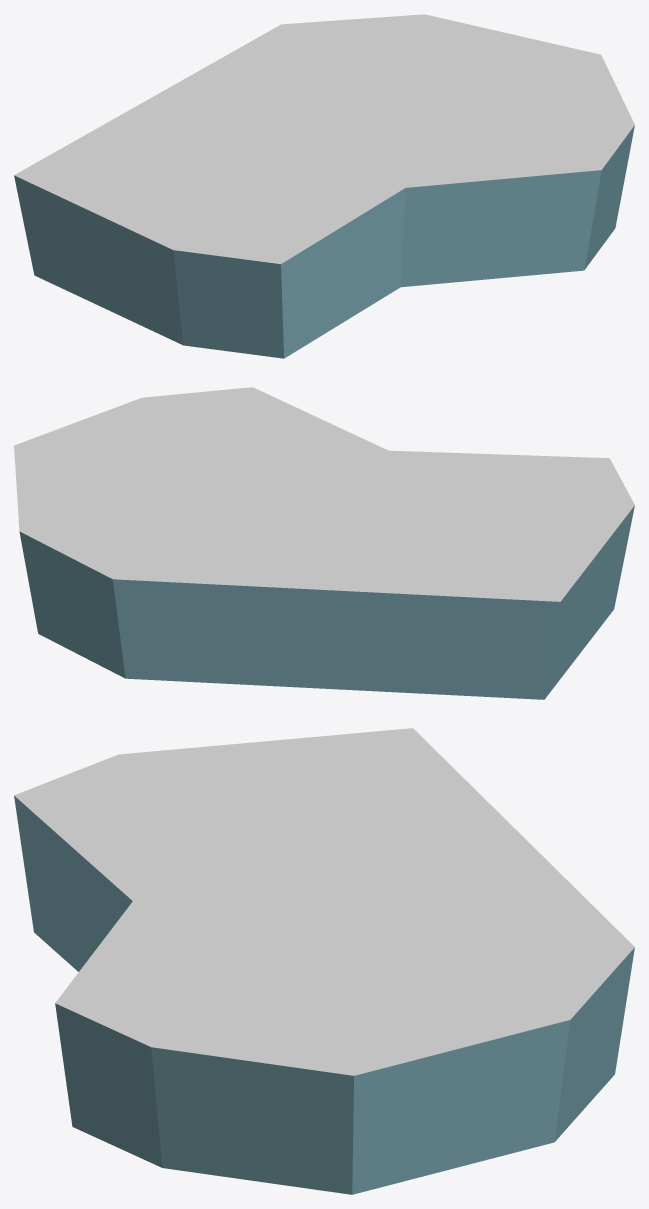
Rendered from floe_03.fbx.
The picture shows the model from 3 angles, top to bottom: view 1: azimuth 30°, elevation 25°; view 2: azimuth 150°, elevation 25°; view 3: azimuth 270°, elevation 25°; orthographic projection. The views are drawn at different scales.
Parts seen in each view (by area): view 1: floe_03; view 2: floe_03; view 3: floe_03.
Part boxes in pixels (bbox=[...]): floe_03: bbox=[14, 14, 634, 358]; floe_03: bbox=[14, 387, 634, 699]; floe_03: bbox=[14, 728, 634, 1194].
Size of the model in its own units: 305 by 53.15 by 230.
